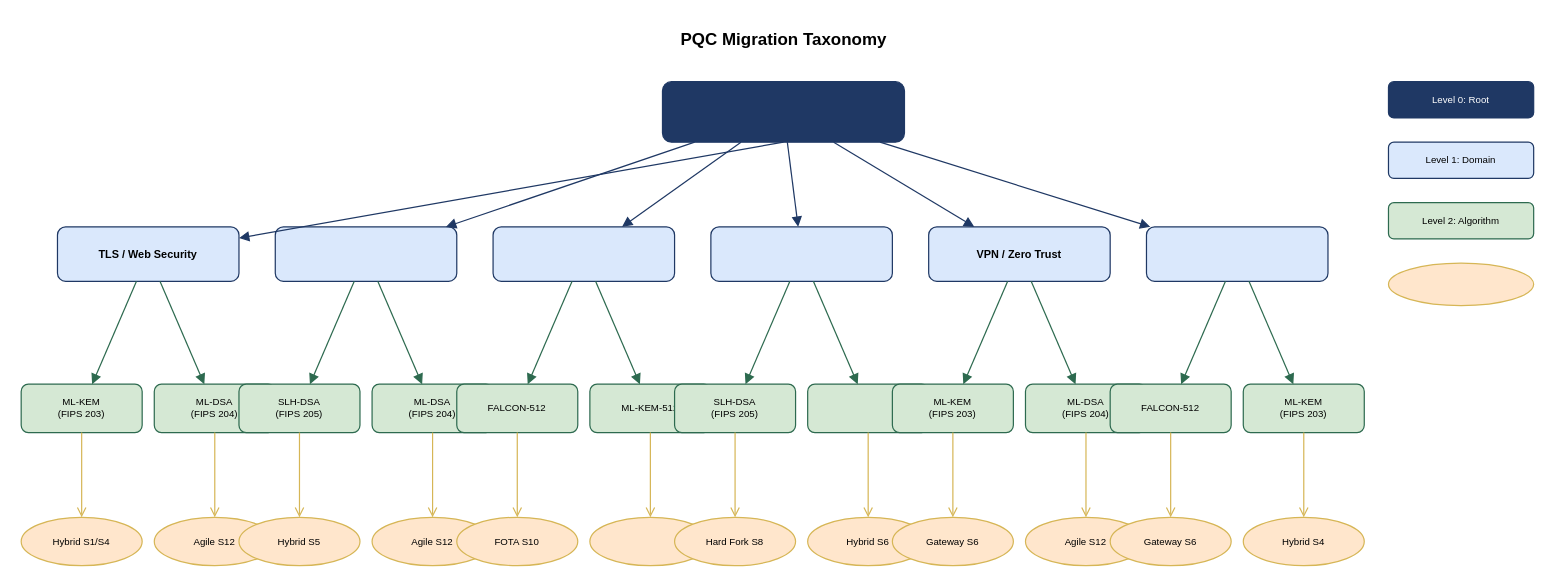
This 1555x587 diagram has some shape labels left out. The centre of each missing label's shape, as x and y in pixels:
"Blockchain / DLT" goes at point 801,253.
"HQC" goes at point 867,408.
"Hybrid S1" goes at point 650,541.
"ICS / OT Systems" goes at point 1236,253.
"IoT / Embedded" goes at point 583,253.
"Level 3: Strategy" goes at point 1460,284.
"PKI / Cert Infrastructure" goes at point 365,253.
"PQC Migration Domains" goes at point 782,111.
